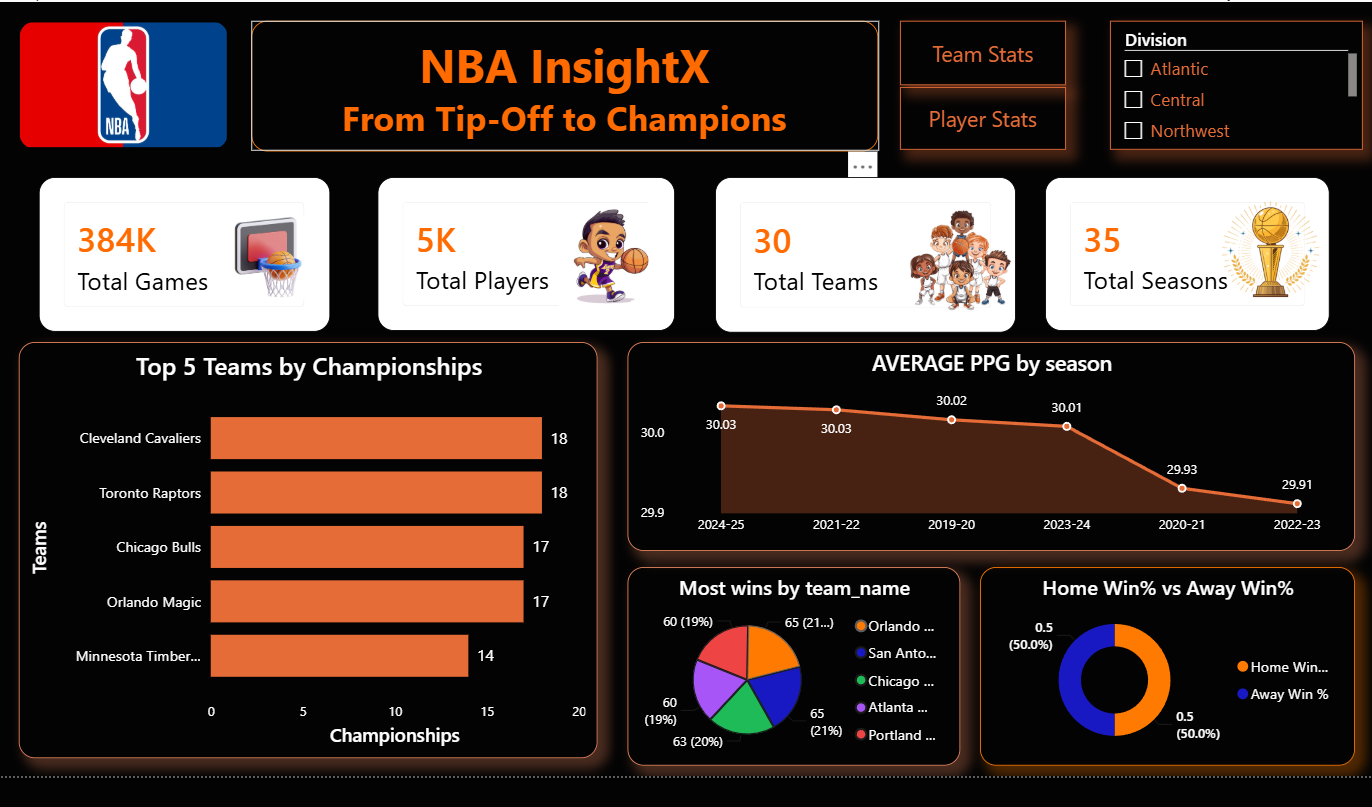

Layout of this report page (visuals, bound fields, positions):
{"tool":"powerbi","page":{"name":"Page 1","canvas":[1280,720],"ordinal":0},"visuals":[{"type":"textbox","box":[234.3,17.1,582.9,121.4],"z":1000},{"type":"image","box":[17.5,17.5,195,120],"z":2000},{"type":"cardVisual","fields":{"Data":["games_details.Total Games"]},"box":[36,162.8,270.9,144.2],"z":3000},{"type":"image","box":[210.5,191.9,76.7,91.9],"z":4000},{"type":"cardVisual","fields":{"Data":["games_details.Total Players"]},"box":[351.7,163.3,276.7,143.3],"z":5000},{"type":"image","box":[518.3,186.7,100,98.3],"z":6000},{"type":"cardVisual","fields":{"Data":["games_details.Total Teams"]},"box":[665,163.3,280,145],"z":7000},{"type":"image","box":[836.7,191.7,113.3,96.7],"z":8000},{"type":"cardVisual","fields":{"Data":["games_details.Total Seasons"]},"box":[971.7,163.3,265,143.3],"z":9000},{"type":"image","box":[1128.3,180,108.3,103.3],"z":10000},{"type":"lineChart","fields":{"Y":["games_details.AVERAGE PPG"],"Category":["games_details.season"]},"box":[583.7,316.3,676.7,194.2],"z":11000},{"type":"pieChart","title":"Most wins by team_name","fields":{"Category":["teams.team_name"],"Y":["Sum(teams.wins)"]},"box":[583.7,525.6,309.3,184.9],"z":12000},{"type":"donutChart","title":"Home Win% vs Away Win%","fields":{"Y":["games_details.Home Win %","games_details.Away Win %"]},"box":[911.6,525.6,348.8,184.9],"z":14000},{"type":"clusteredBarChart","title":"Top 5 Teams by Championships","fields":{"Y":["Sum(teams.championships)"],"Category":["teams.team_name"]},"box":[17.4,316.5,538.7,387.3],"z":15000},{"type":"actionButton","box":[837.1,17.1,154.3,60],"z":27000},{"type":"actionButton","box":[837.1,78.6,154.3,58.6],"z":28000},{"type":"slicer","title":"affw","fields":{"Values":["teams.division"]},"box":[1032.5,17.5,235,120],"z":29000}]}

Visuals, with their boxes on the page's 1280x720 design canvas (x1, y1, x2, y2). These are canvas units, not pixel positions in the 1372x807 screenshot, which may show the page scaled, cropped or inside an application window:
textbox: x1=234, y1=17, x2=817, y2=138
image: x1=18, y1=18, x2=212, y2=138
cardVisual - games_details.Total Games: x1=36, y1=163, x2=307, y2=307
image: x1=210, y1=192, x2=287, y2=284
cardVisual - games_details.Total Players: x1=352, y1=163, x2=628, y2=307
image: x1=518, y1=187, x2=618, y2=285
cardVisual - games_details.Total Teams: x1=665, y1=163, x2=945, y2=308
image: x1=837, y1=192, x2=950, y2=288
cardVisual - games_details.Total Seasons: x1=972, y1=163, x2=1237, y2=307
image: x1=1128, y1=180, x2=1237, y2=283
lineChart - games_details.AVERAGE PPG x games_details.season: x1=584, y1=316, x2=1260, y2=510
"Most wins by team_name" pieChart: x1=584, y1=526, x2=893, y2=710
"Home Win% vs Away Win%" donutChart: x1=912, y1=526, x2=1260, y2=710
"Top 5 Teams by Championships" clusteredBarChart: x1=17, y1=316, x2=556, y2=704
actionButton: x1=837, y1=17, x2=991, y2=77
actionButton: x1=837, y1=79, x2=991, y2=137
"affw" slicer: x1=1032, y1=18, x2=1268, y2=138
